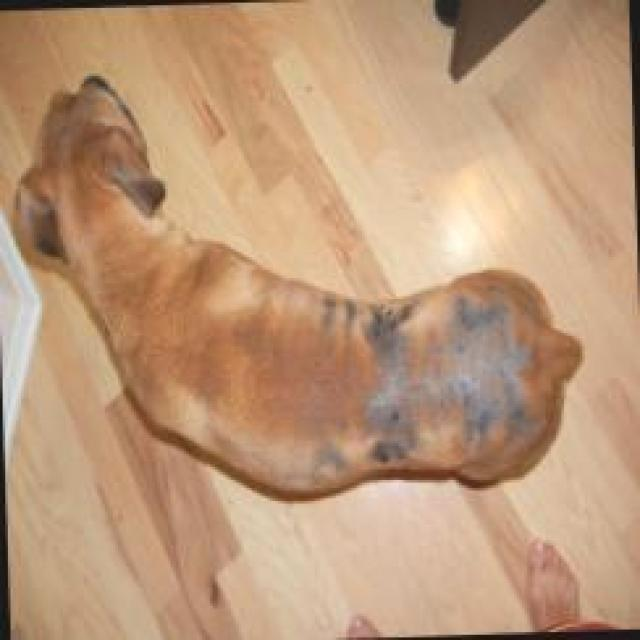fungal infection: (446, 290, 537, 453), (362, 302, 424, 466), (313, 287, 365, 341), (308, 442, 350, 488), (415, 372, 450, 414)
